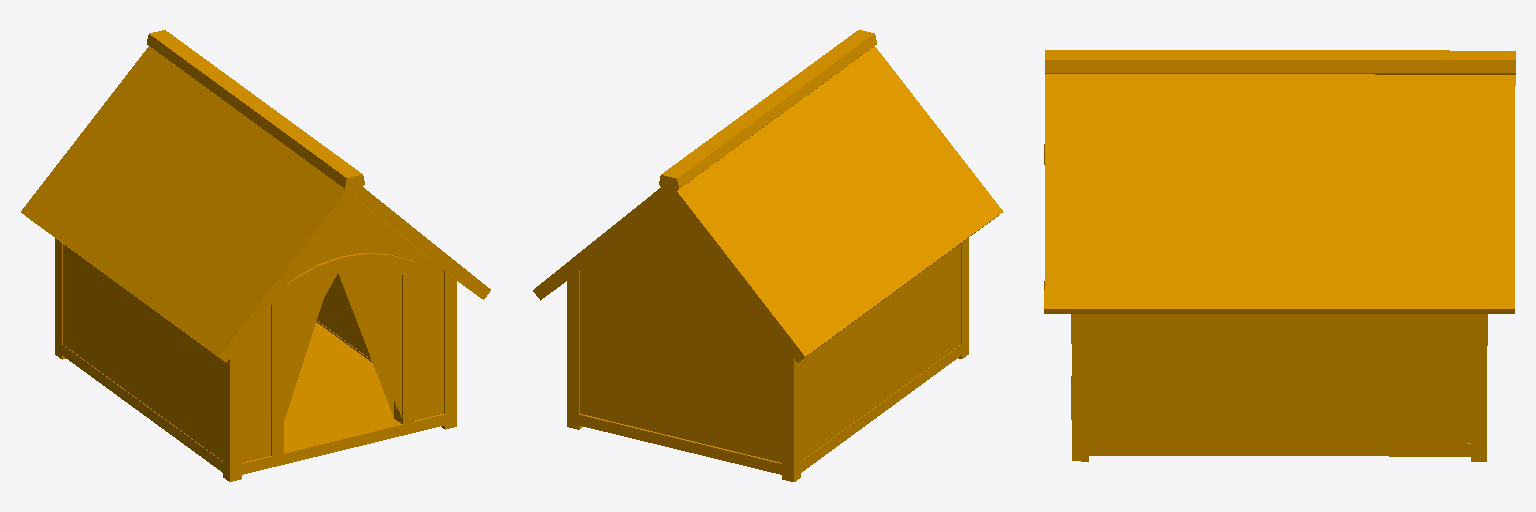
URDF robot description (none):
<robot name="none">
       <link name="none">
           <visual>
               <origin rpy="1.57 0 0" xyz="0 0 0" />
               <geometry>
                   <mesh filename="dog-house.obj" />
               </geometry>
           </visual>
          <collision>
              <geometry>
                  <box size="0.795512 0.798380 1.000000" />
              </geometry>
          </collision>

          <inertial>
            <mass value="0.0" />
            <inertia ixx="0.0" ixy="0.0" ixz="0.0" iyy="0.0" iyz="0.0" izz="0.0" />
          </inertial>
      </link>
  </robot>

--- Facts derived from the render (not from the file) ---
Views: 3 orthographic renders of the robot side by side, from view 1: azimuth 30°, elevation 25°; view 2: azimuth 150°, elevation 25°; view 3: azimuth 270°, elevation 25°.
Robot: none — 1 links, 0 joints (none); root link none; default pose: all joints at 0.
Links seen in each view (by area): view 1: none; view 2: none; view 3: none.
Link boxes in pixels (x1,y1,x2,y2): none: (21,30,490,481); none: (533,30,1002,481); none: (1044,50,1515,461).
Size in the robot's own frame: 0.7955 by 1 by 0.7991 metres.
1 mesh visuals loaded from 1 distinct referenced files (1 OBJ).